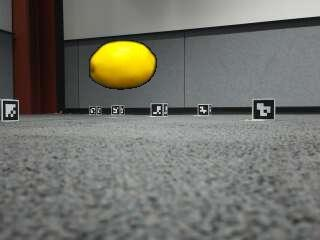lemon: (90, 42, 155, 89)
